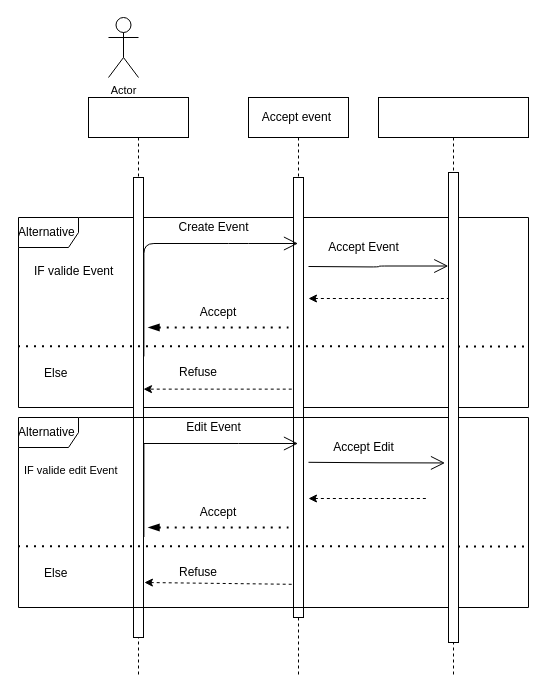
This 548x695 diagram has some shape labels left out. Here are the shapes that lost their labels. From the top down, the box of each, then its label:
(88, 96, 188, 678): Instituion
(378, 96, 528, 678): Save to DB
